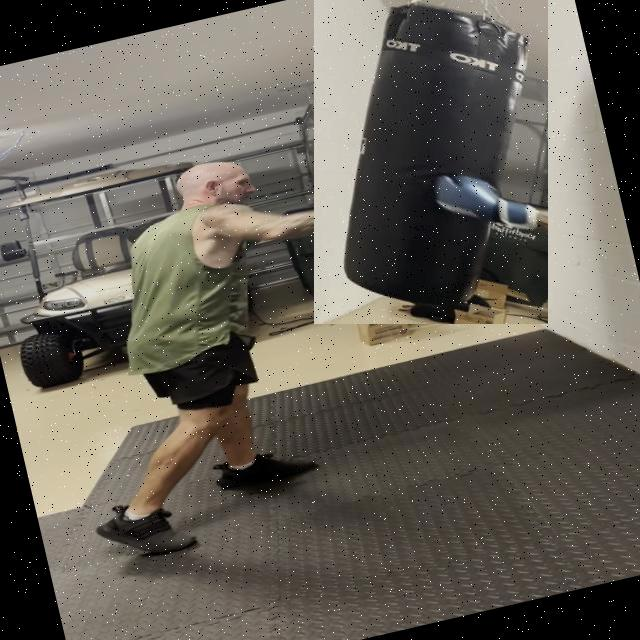punch: (94, 104, 446, 320)
